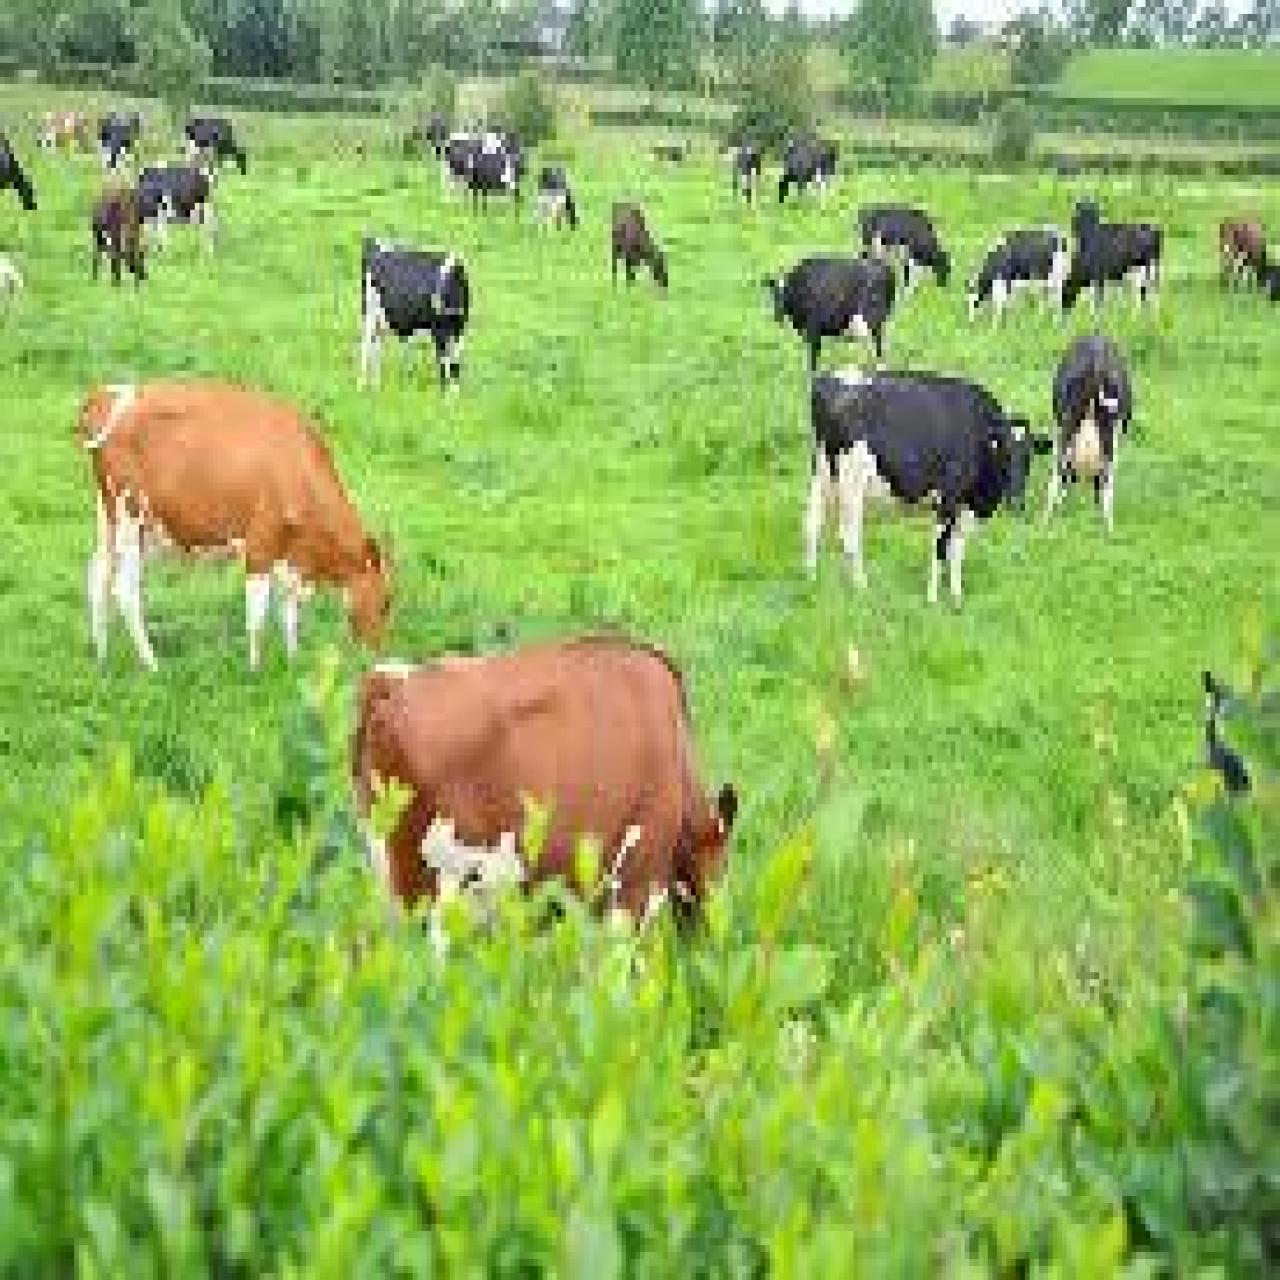cow: (348, 629, 742, 945), (72, 377, 392, 679), (799, 363, 1055, 601), (1036, 328, 1133, 531), (358, 227, 474, 395), (758, 248, 903, 368), (958, 227, 1074, 333), (1057, 220, 1164, 319), (853, 199, 955, 291), (118, 157, 220, 241), (88, 164, 154, 291), (443, 125, 512, 224), (607, 199, 673, 291), (772, 132, 842, 210), (181, 113, 256, 175), (28, 102, 93, 164), (531, 164, 583, 241), (1216, 213, 1266, 291), (0, 129, 38, 220), (95, 109, 147, 171), (1247, 245, 1280, 308), (730, 143, 763, 206)
